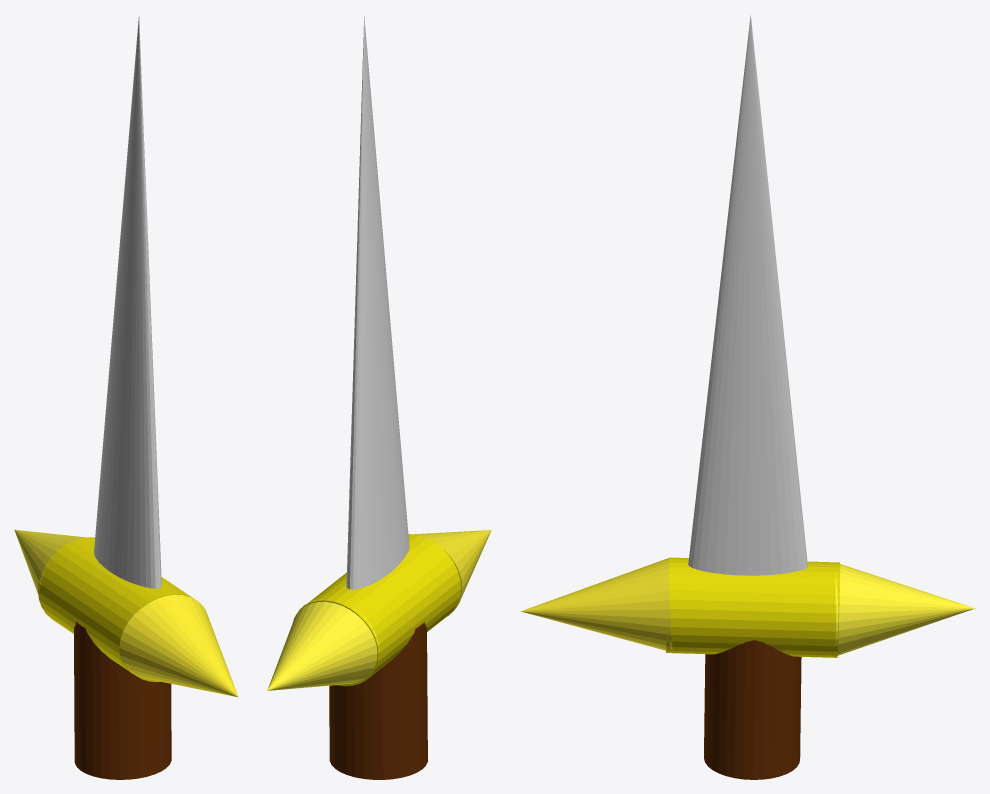
File: sword.fbx
3 views of the same model, side by side, from view 1: azimuth 30°, elevation 25°; view 2: azimuth 150°, elevation 25°; view 3: azimuth 270°, elevation 25° (orthographic).
Visible parts, largest first — view 1: Cylinder; view 2: Cylinder; view 3: Cylinder.
Part boxes in pixels (bbox=[...]): Cylinder: bbox=[14, 16, 238, 779]; Cylinder: bbox=[267, 16, 491, 779]; Cylinder: bbox=[521, 15, 974, 779].
Bounding box in the file's own units: 211 × 1669 × 915.
